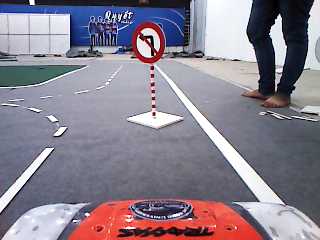ban: (131, 21, 167, 63)
